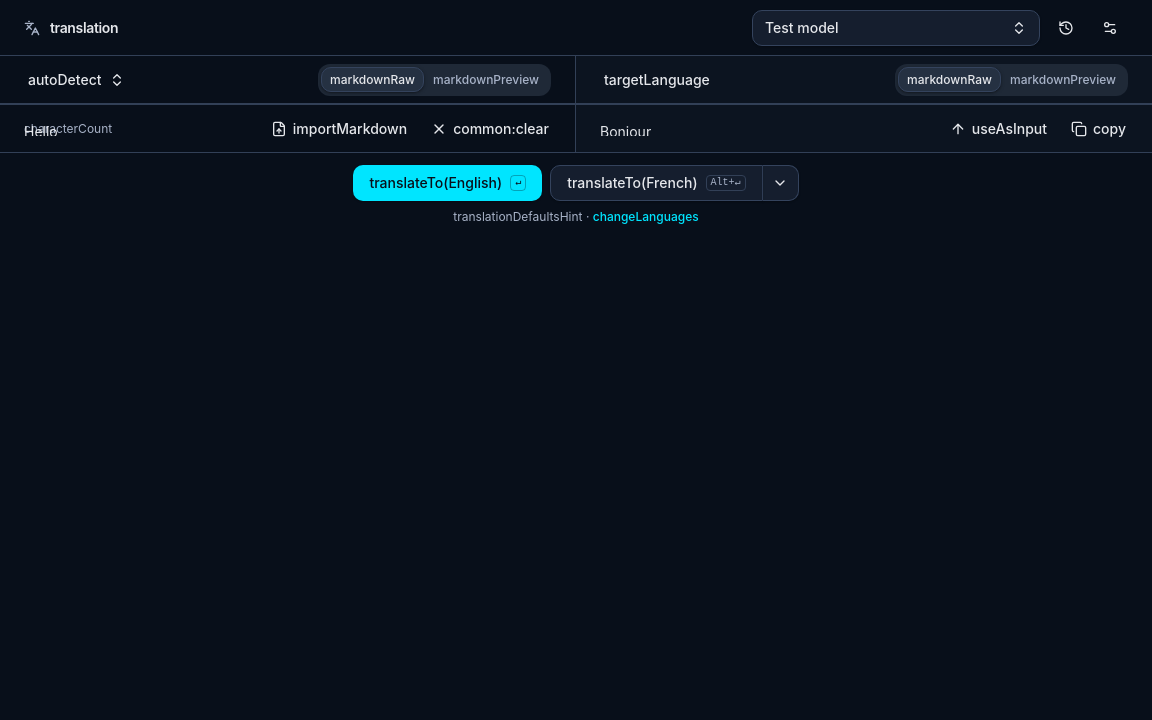
it: TranslationContent › explains system-based defaults and opens language settings from the hint
The image size is (1152, 720).
Check: the text "translationDefaultsHint · changeLanguages" is shown, box [453,209,699,225]
Click the button "changeLanguages": click(646, 217) [593,209,699,225]
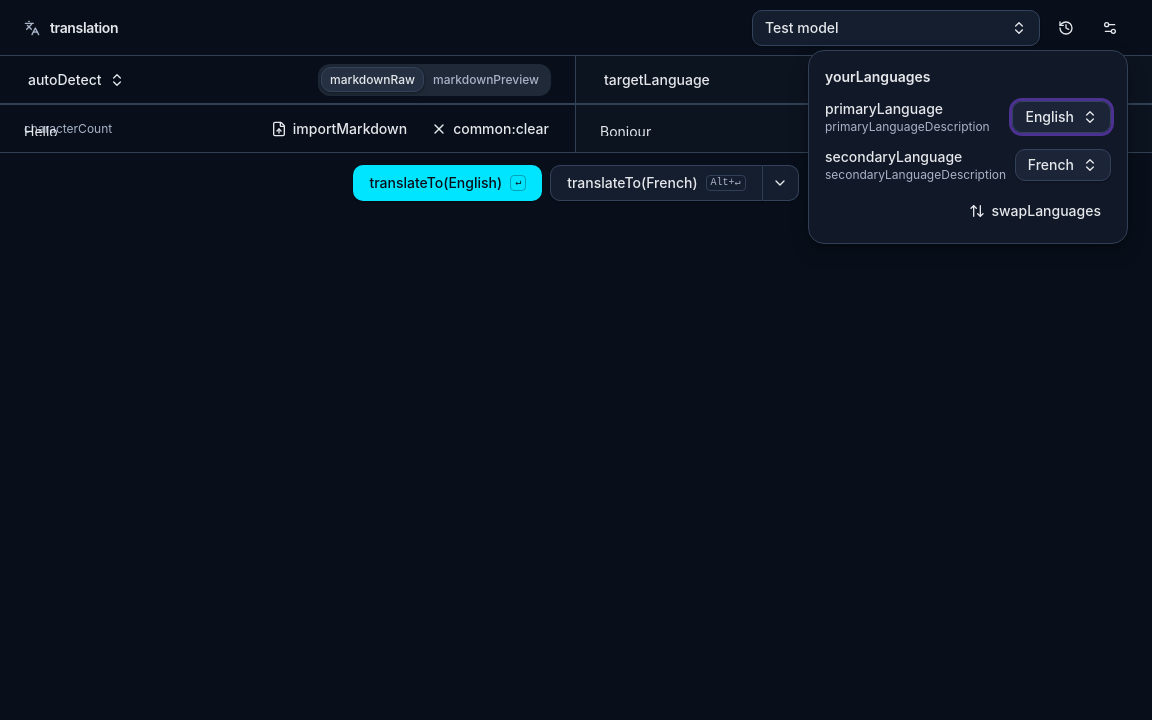
Check: the heading "yourLanguages" is shown, box [825,68,930,85]
Check: the dropdown named "primaryLanguage" reads "English", box [1012,101,1111,133]
Check: the dropdown named "secondaryLanguage" reads "French", box [1015,149,1111,181]
